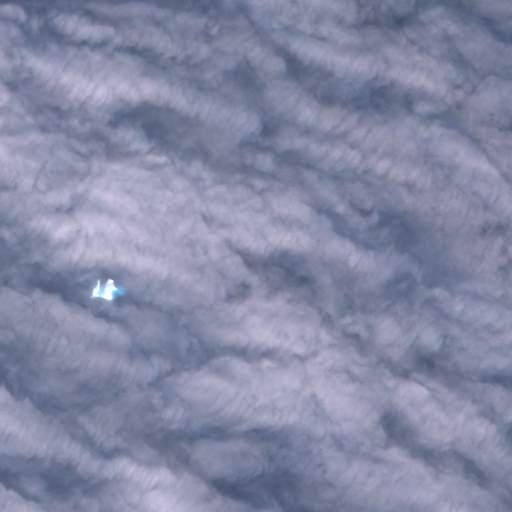Iceberg: (92, 279, 117, 299)
